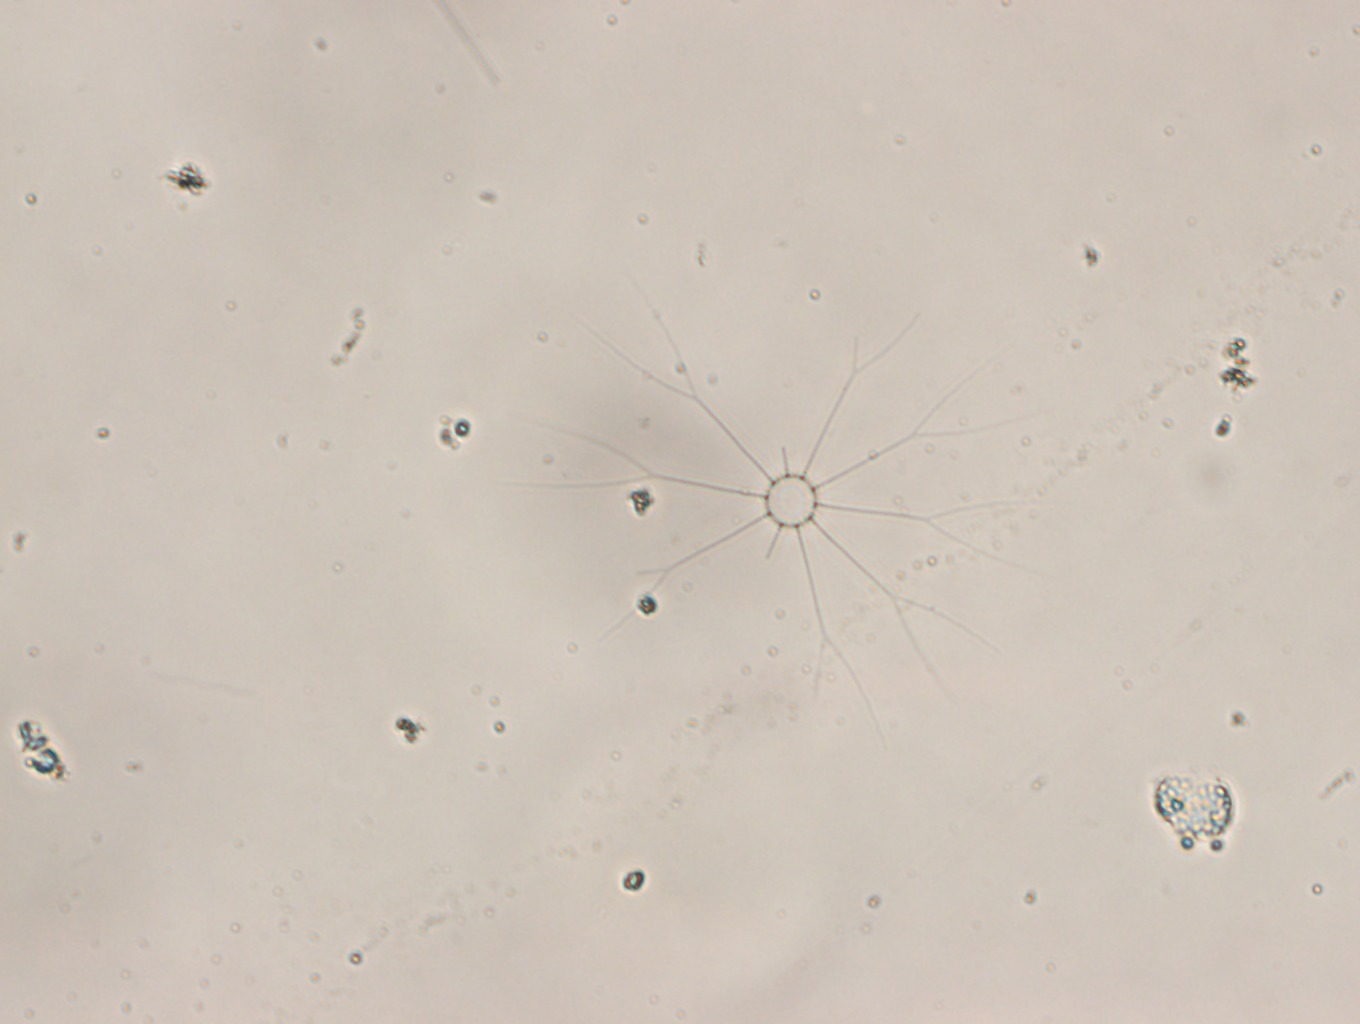bacteriastrum: (531, 282, 1040, 733)
